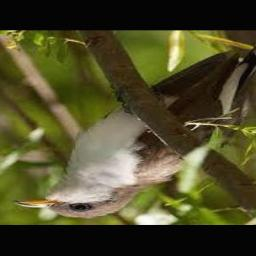Cuckoo: (12, 30, 256, 219)
